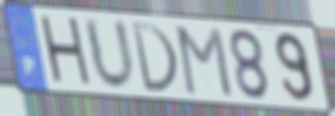8: (226, 28, 271, 102)
9: (273, 30, 316, 106)
D: (129, 20, 181, 96)
H: (37, 13, 96, 91)
M: (174, 24, 236, 100)
U: (81, 14, 139, 94)
